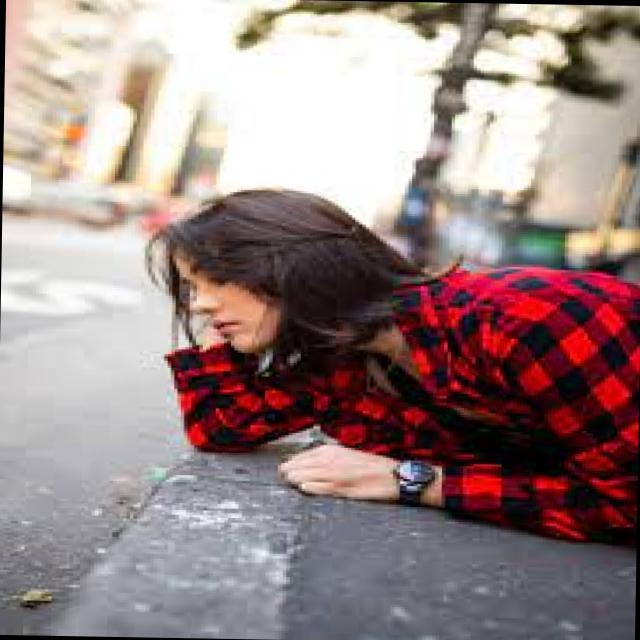Watch: (386, 450, 439, 512)
